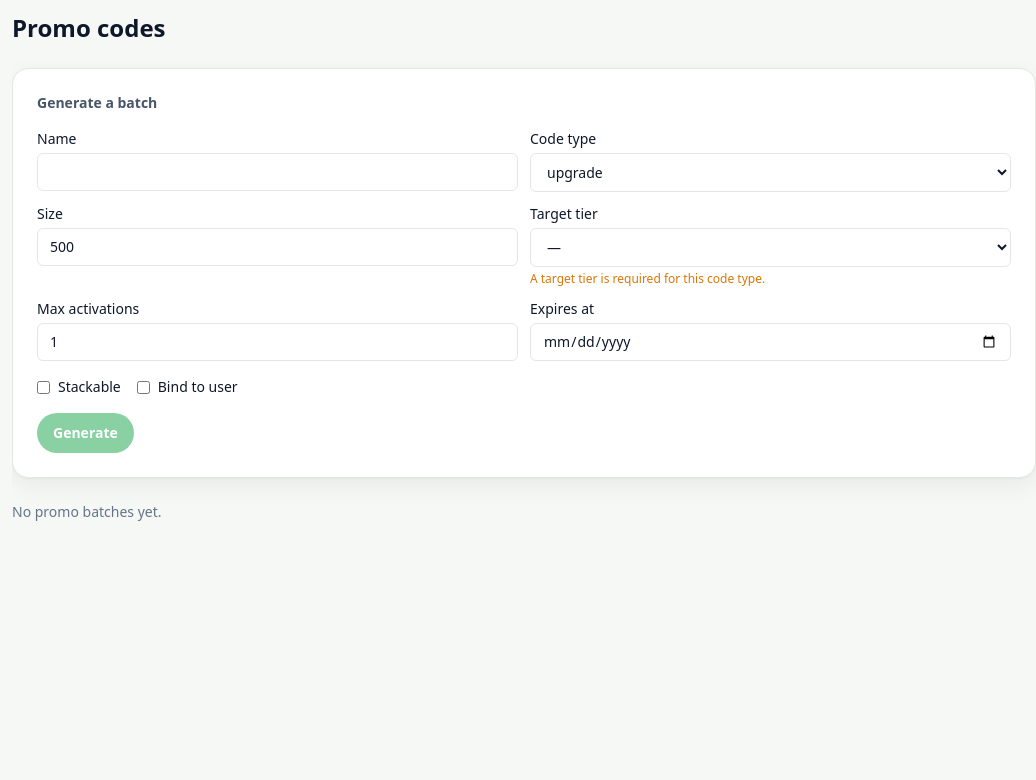
Test: PromoView › requires a tier and positive integer days for trial codes
This screenshot has width=1036, height=780.
Type "X" into the field labelled "Name". click: [278, 172]
box: [37,153,518,191]
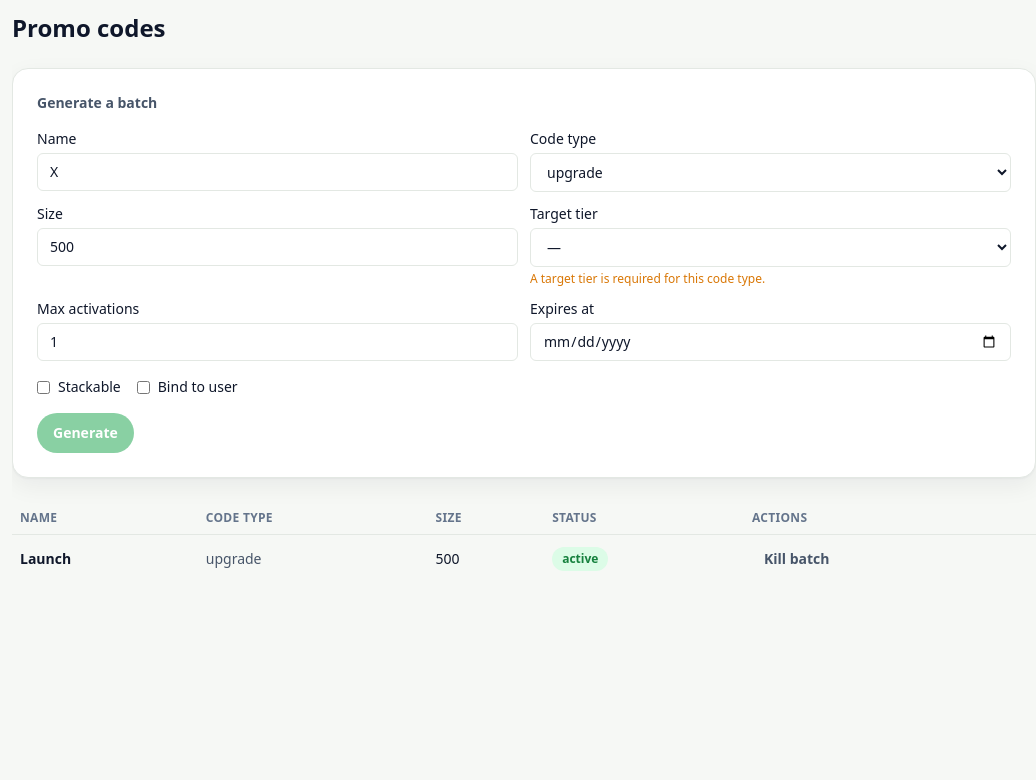
Select "trial" in the dropdown labelled "Code type". click: [770, 172]
box: [530,153,1011,192]
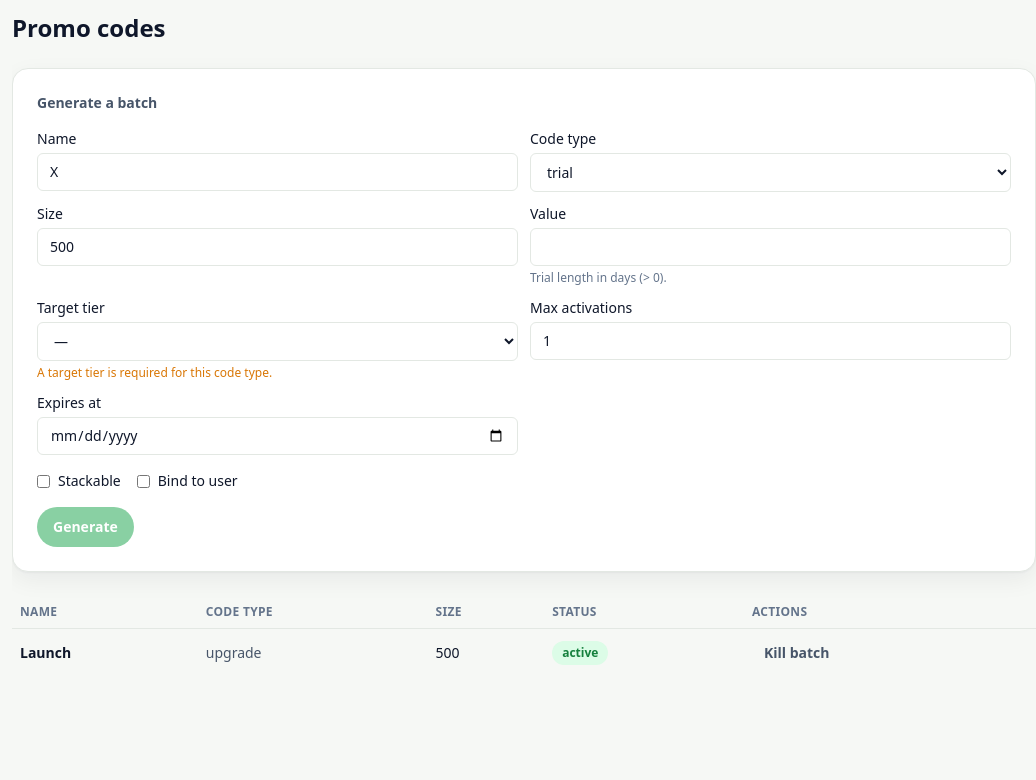
Expected: the button "Generate" is disabled, [37,507,134,547]
Select "pro" in the dropdown labelled "Target tier". click: [278, 342]
box: [37,322,518,361]
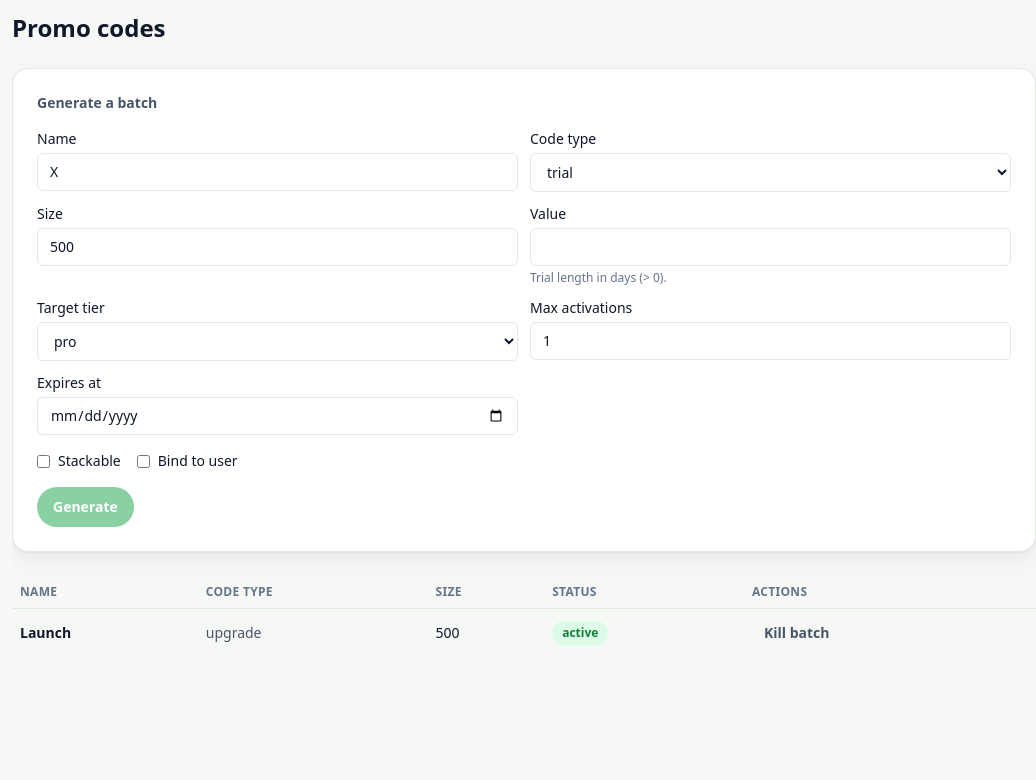
Expected: the button "Generate" is disabled, [37,487,134,527]
Type "0" into the number field labelled "Value". click: [770, 247]
box: [530,228,1011,266]
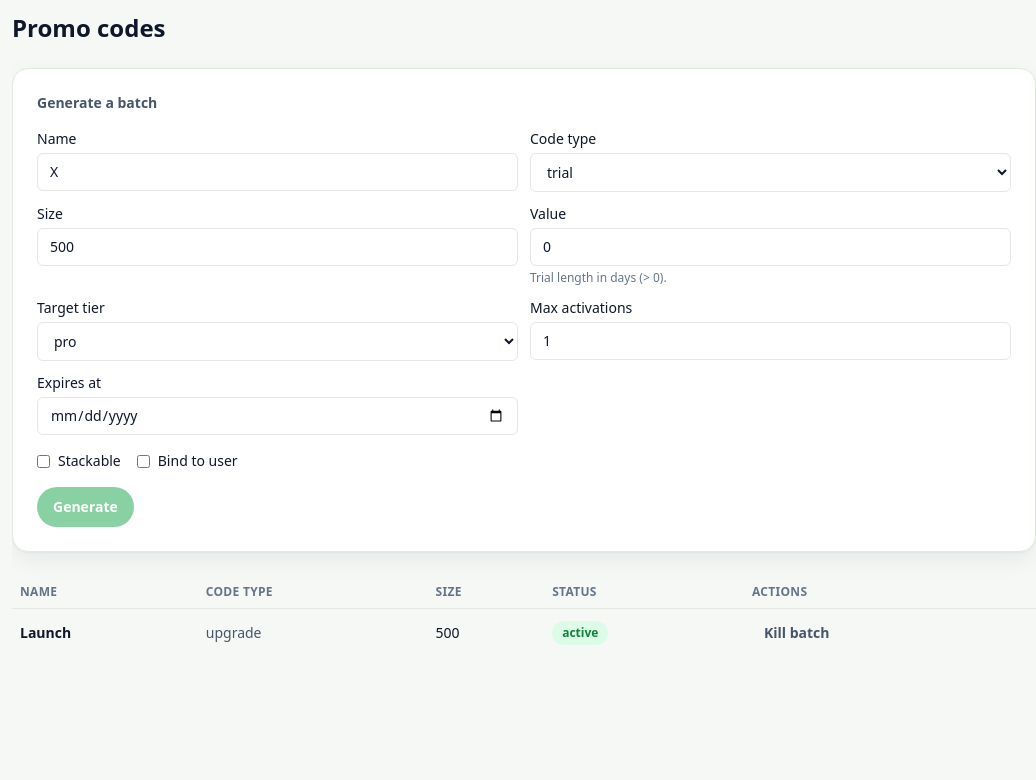
Expected: the button "Generate" is disabled, [37,487,134,527]
Replace the text in the number field labelled "Value" with "7". click: [770, 247]
box: [530,228,1011,266]
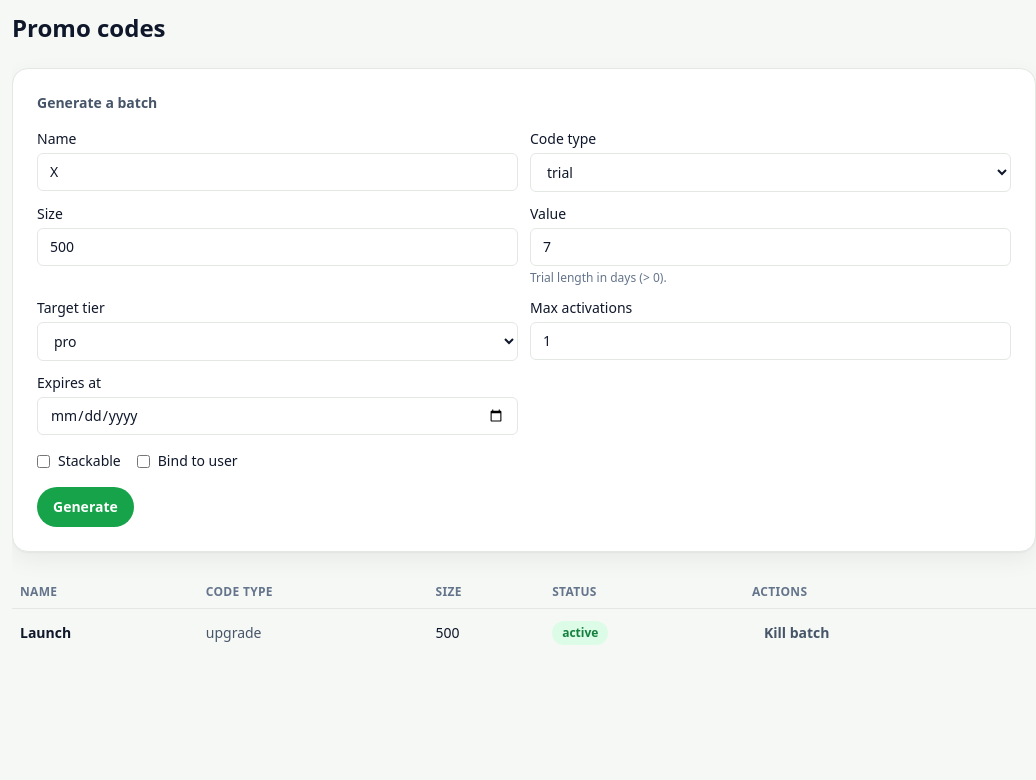
Result: the button "Generate" is enabled at [37,487,134,527]
